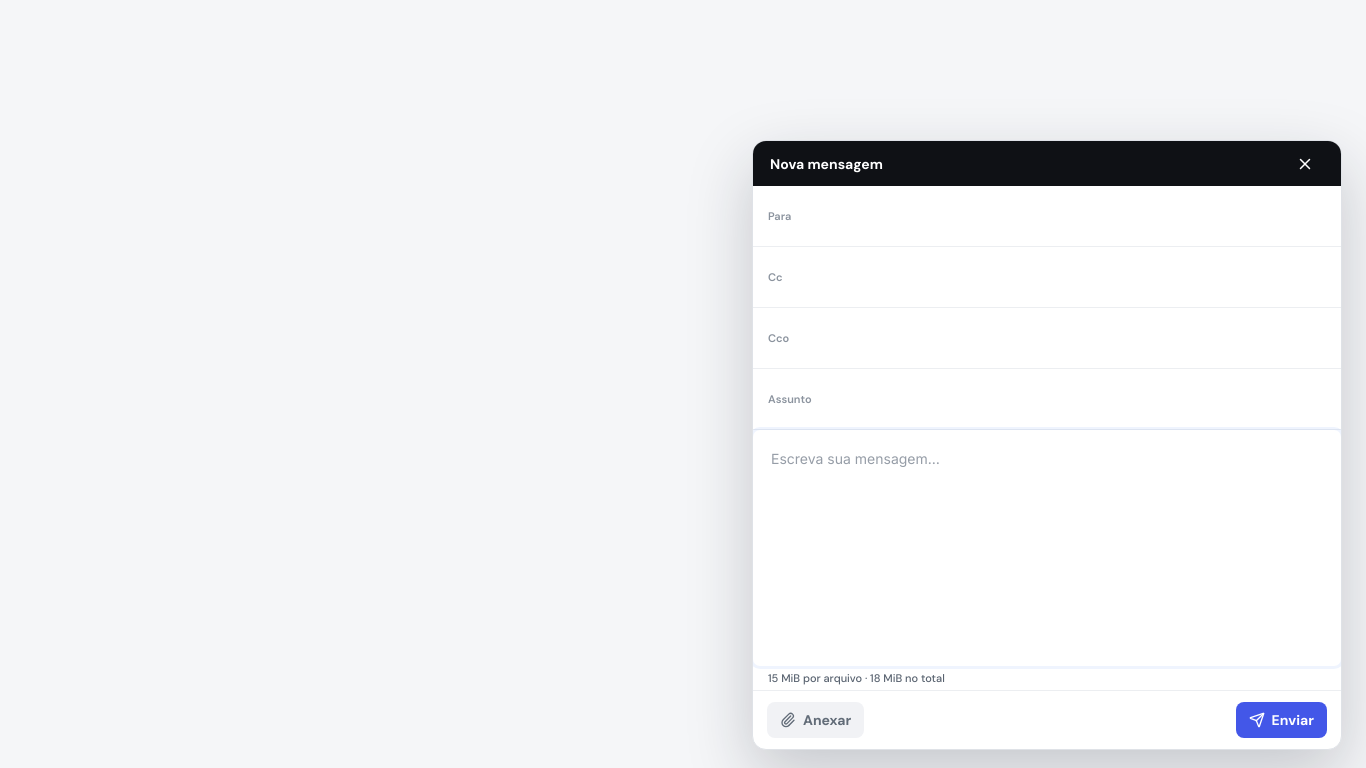
Composer › impede envio sem destinatário
This screenshot has width=1366, height=768.
Click the button "Enviar": coordinates (1281, 720) [1236,702,1327,738]
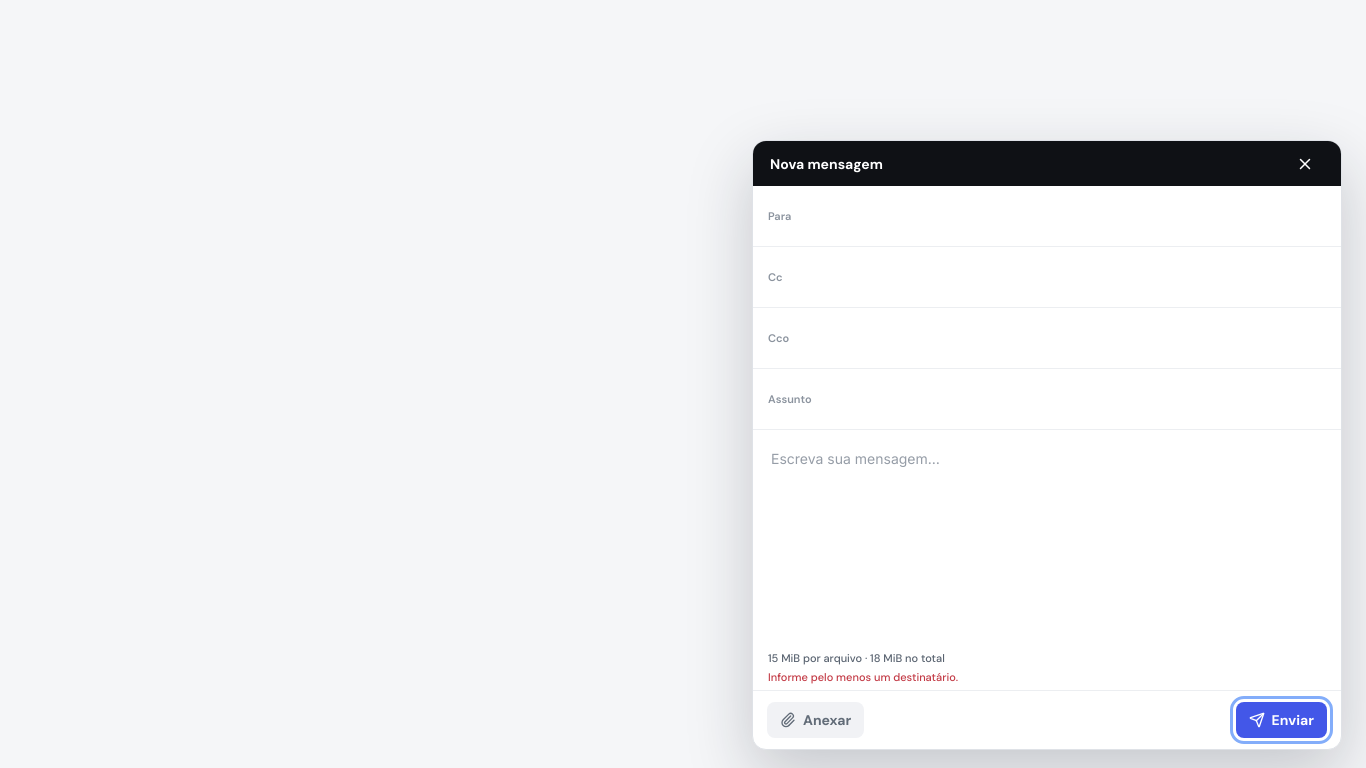
Expected: the message shows "Informe pelo menos um destinatário", [768,670,958,684]
